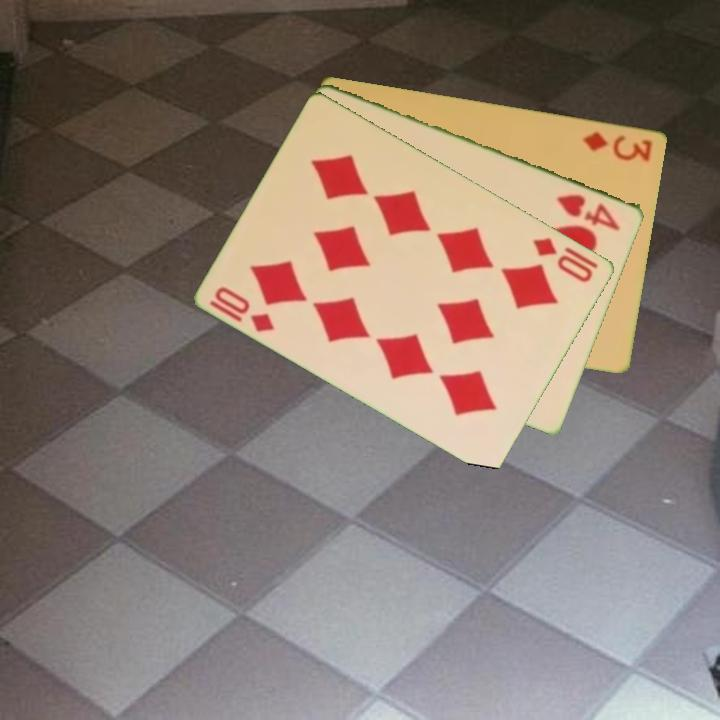10d: (529, 233, 602, 285), (211, 282, 279, 335)
3d: (579, 128, 656, 164)
4h: (554, 190, 624, 234)
